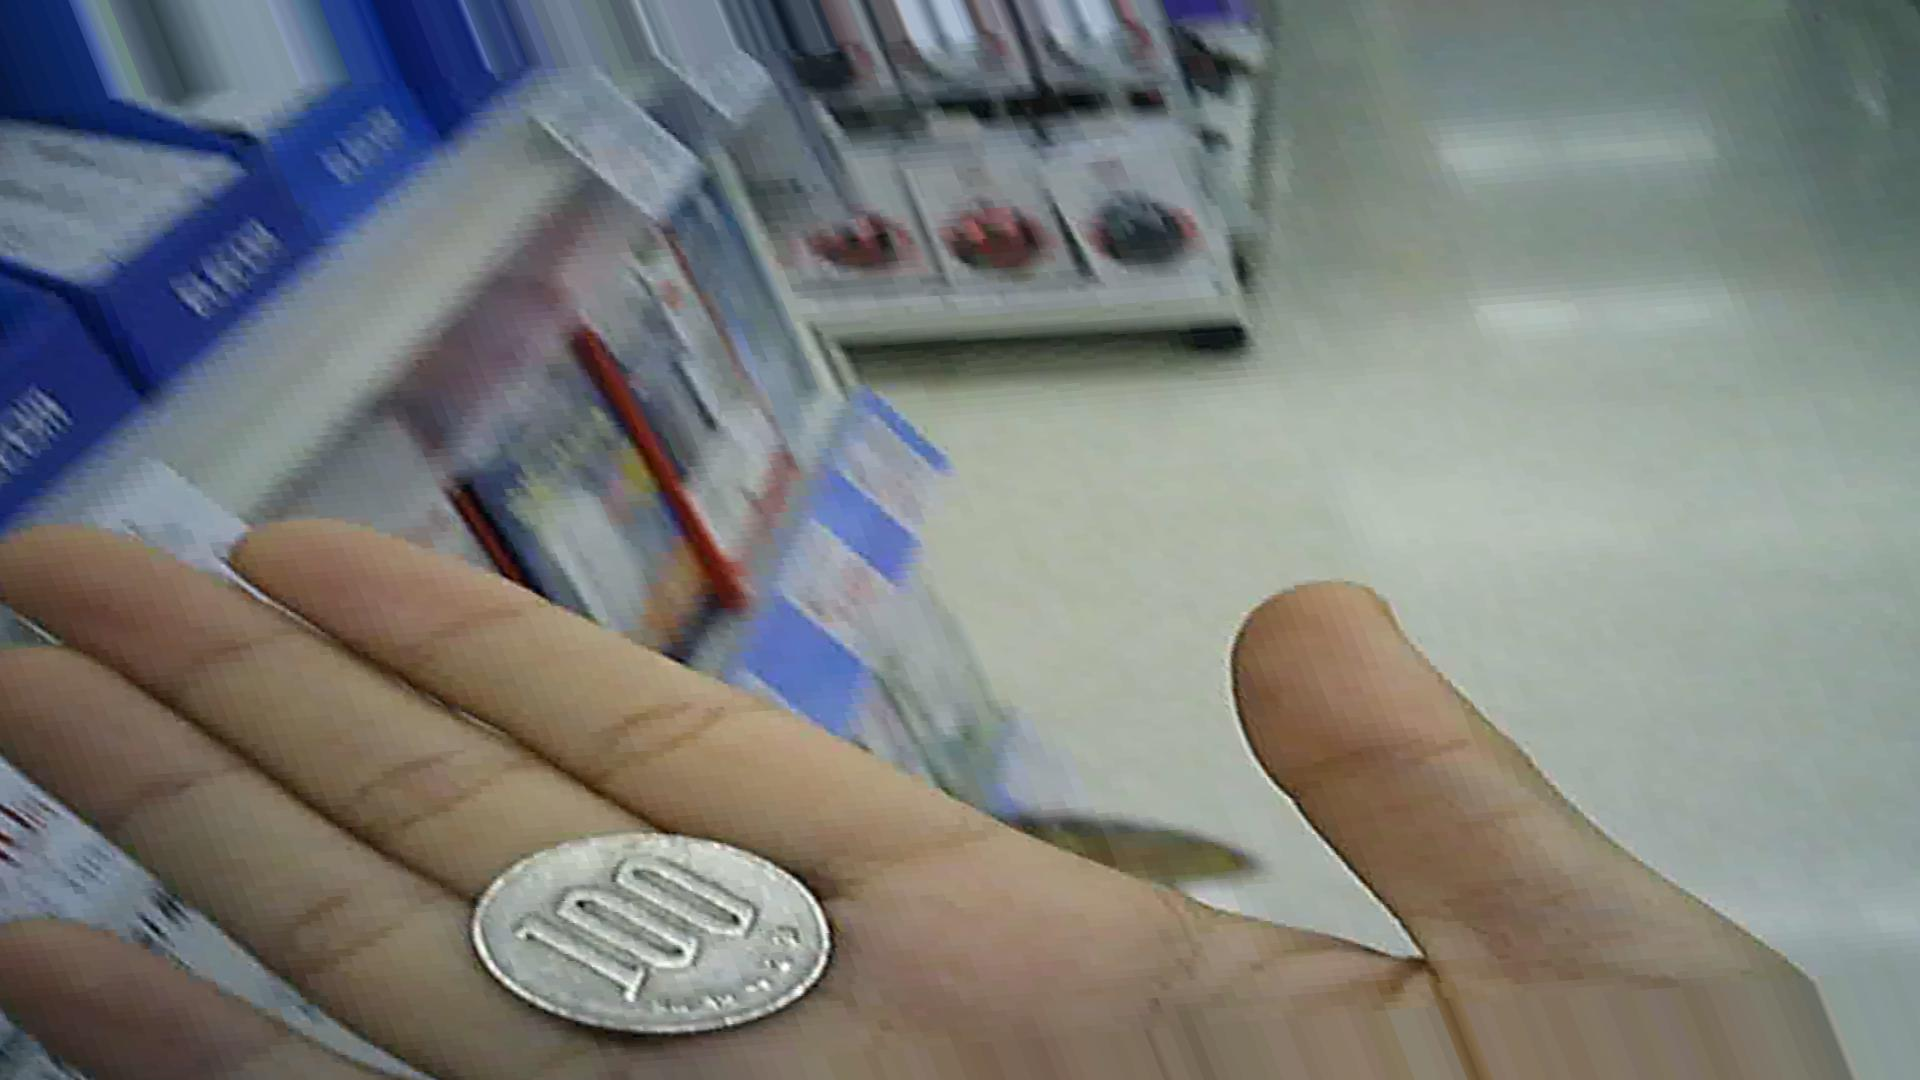100 Yen: (469, 819, 831, 1036)
